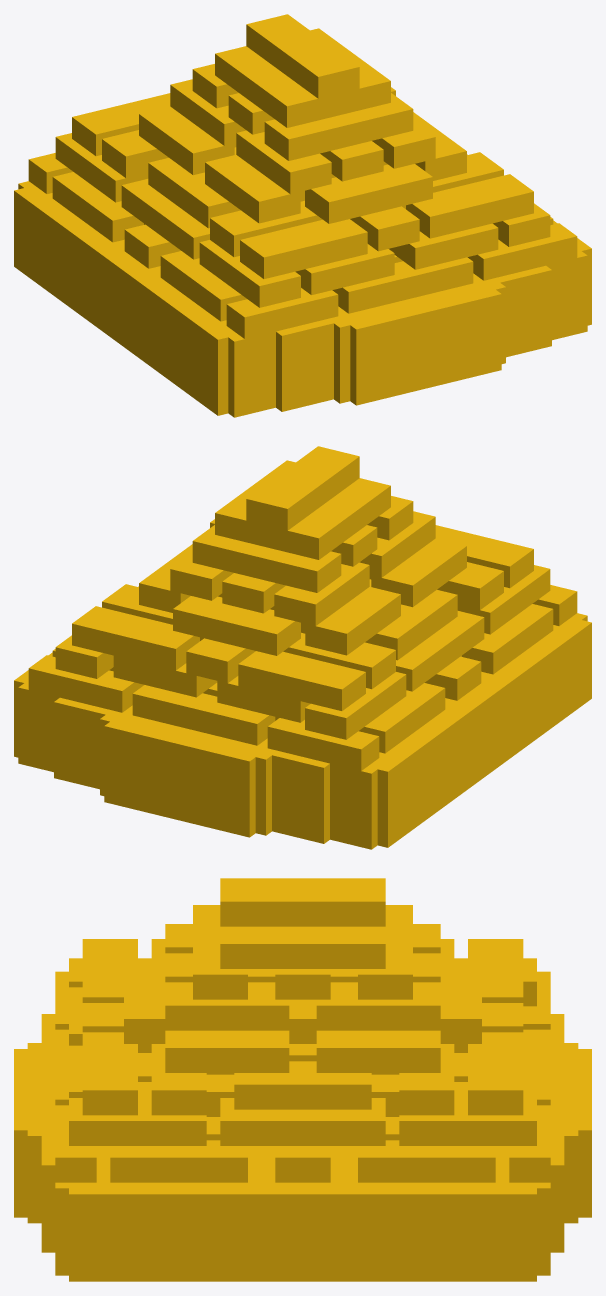
The model's file is gold level 3.obj.
3 renders of one model, top to bottom at view 1: azimuth 30°, elevation 25°; view 2: azimuth 150°, elevation 25°; view 3: azimuth 270°, elevation 25°, orthographic. The views are drawn at different scales.
Bounding box in the file's own units: 3.6 × 2.3 × 4.2.
Materials: 1 (1 with a texture image).
